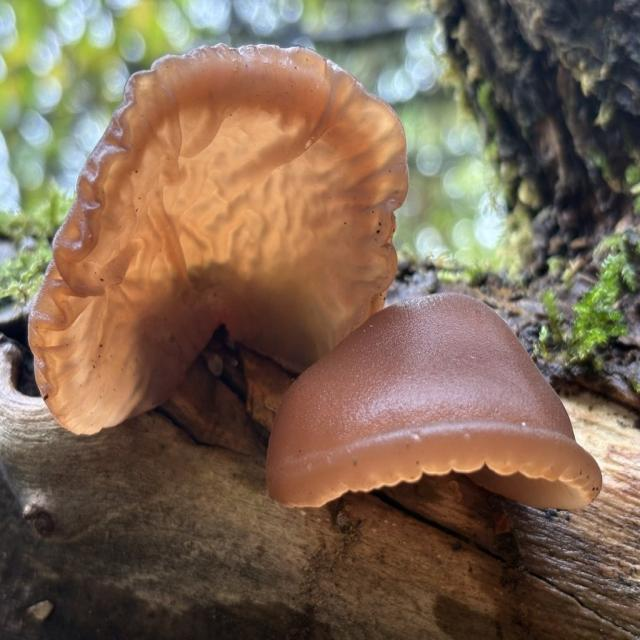Fase Muda: (24, 38, 416, 442), (250, 285, 608, 520)
